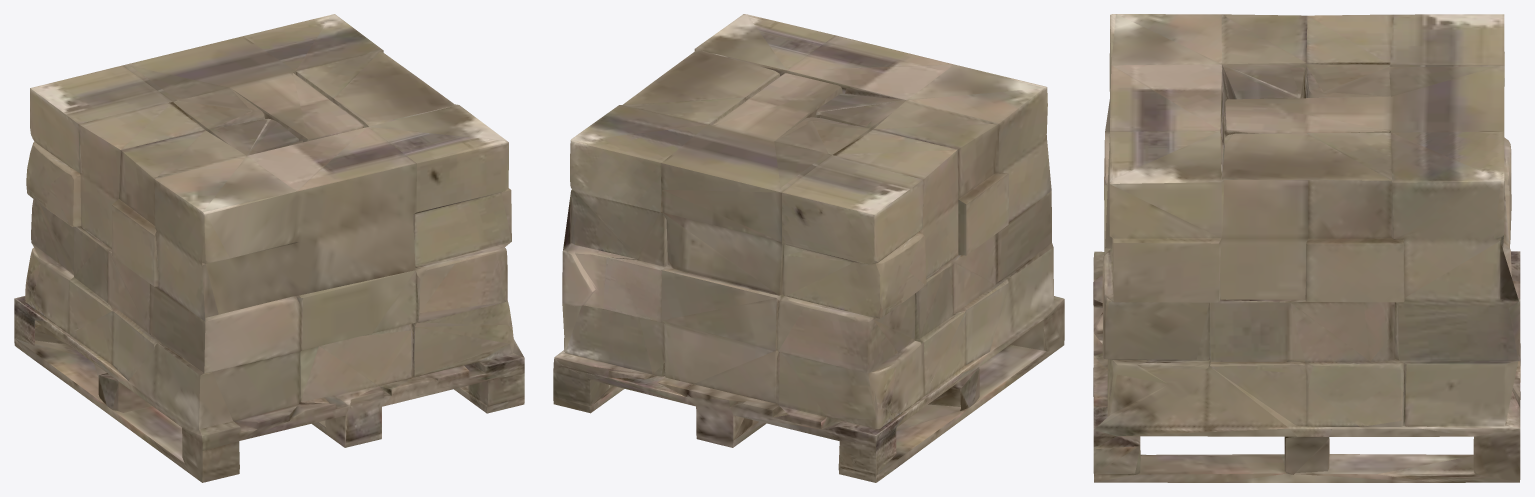
File: pallet_boxes.glb
3 renders of one model, left to right at view 1: azimuth 30°, elevation 25°; view 2: azimuth 150°, elevation 25°; view 3: azimuth 270°, elevation 25°, orthographic. The views are drawn at different scales.
Parts seen in each view (by area): view 1: Mesh_0; view 2: Mesh_0; view 3: Mesh_0.
Part boxes in pixels (x1,y1,x2,y2): Mesh_0: (14, 14, 524, 482); Mesh_0: (553, 14, 1064, 482); Mesh_0: (1093, 14, 1520, 482).
Bounding box in the file's own units: 1.88 × 1.46 × 1.9.
1 material, 1 textured.
